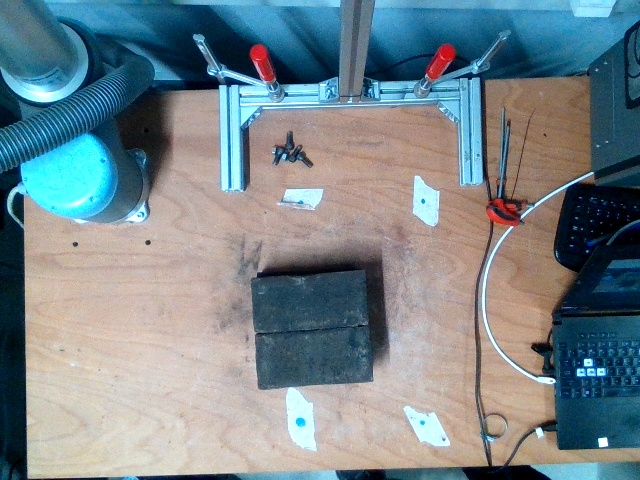brick: (251, 271, 370, 331), (256, 330, 371, 387)
